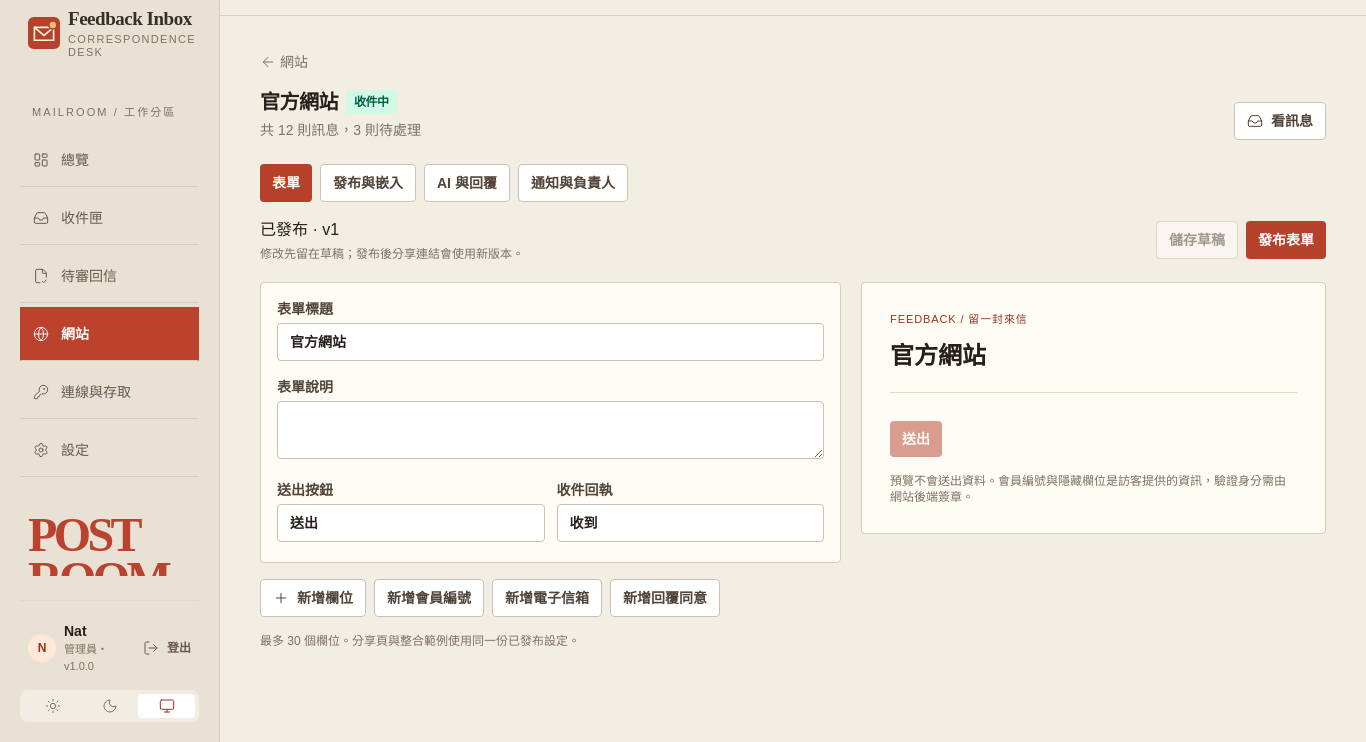
Scenario: 測試通知會列出每個目標的結果
Click the button "通知與負責人": (573, 183) [518, 164, 628, 202]
(page scrolled)
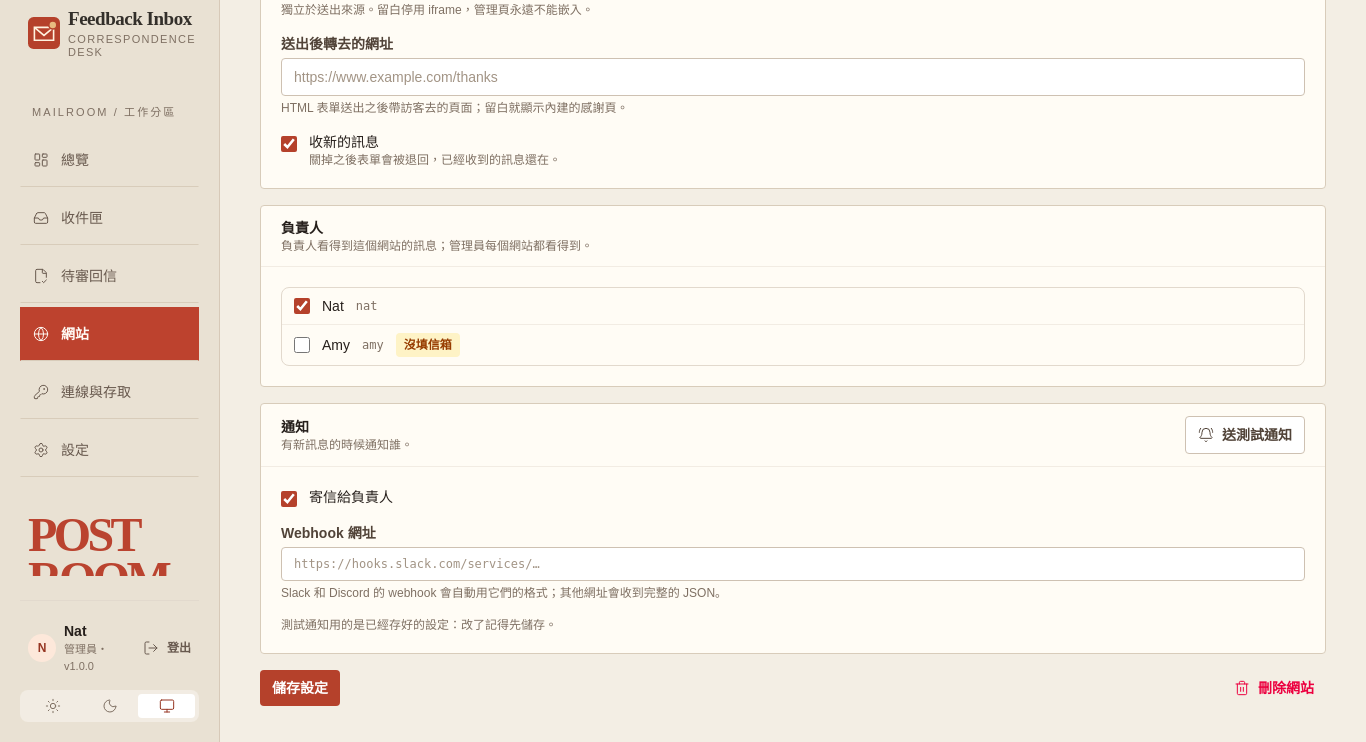
Click the button "送測試通知": (1245, 435) [1185, 416, 1305, 454]
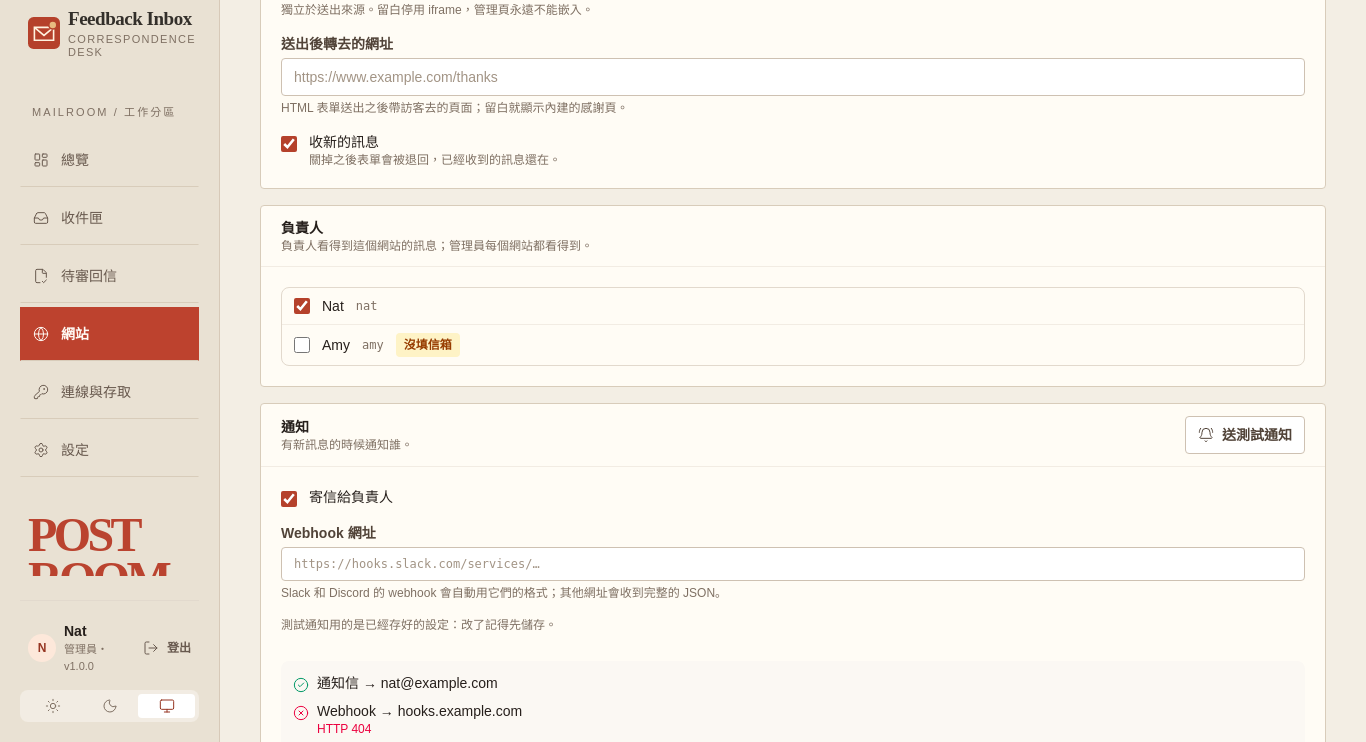
Expected: the text "通知信 → nat@example.com" is shown, [317, 675, 498, 691]
Expected: the text "HTTP 404" is shown, [317, 722, 372, 736]
